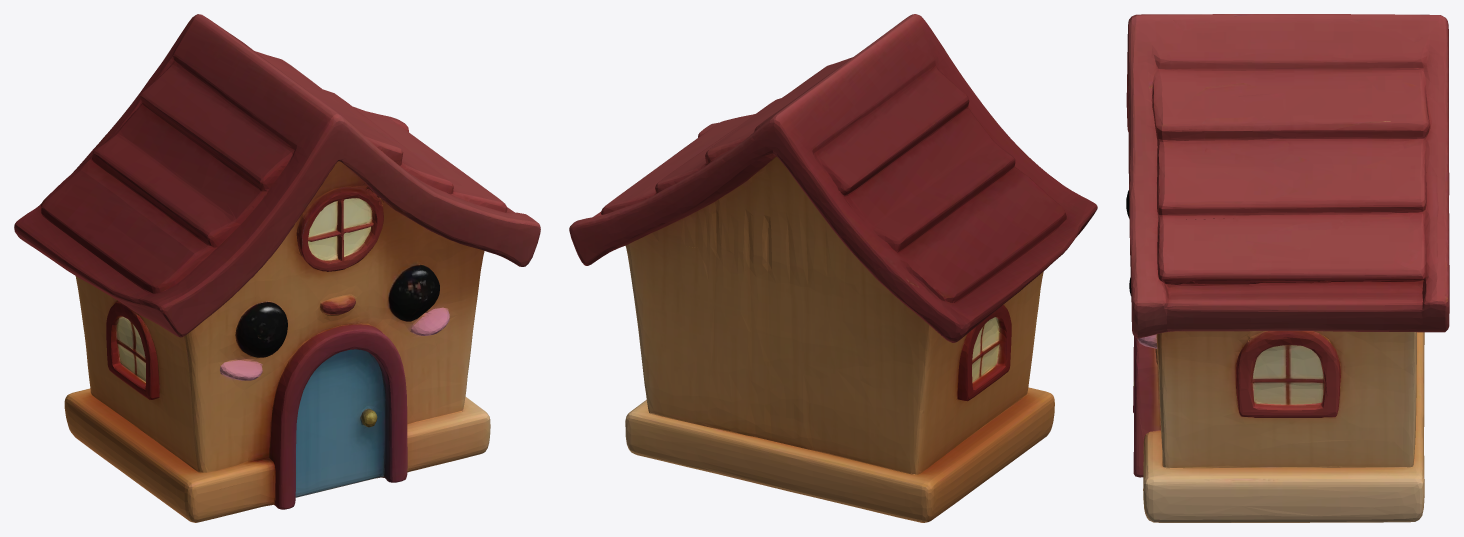
The model's file is house.glb.
3 views of the same model, side by side, from view 1: azimuth 30°, elevation 25°; view 2: azimuth 150°, elevation 25°; view 3: azimuth 270°, elevation 25° (orthographic). The views are drawn at different scales.
Visible parts, largest first — view 1: geometry_0; view 2: geometry_0; view 3: geometry_0.
Part boxes in pixels (x1,y1,x2,y2): geometry_0: (14,14,540,522); geometry_0: (569,14,1097,522); geometry_0: (1126,14,1449,522).
Bounding box in the file's own units: 0.999 × 0.9288 × 0.6403.
Materials: 1 (1 with a texture image).
